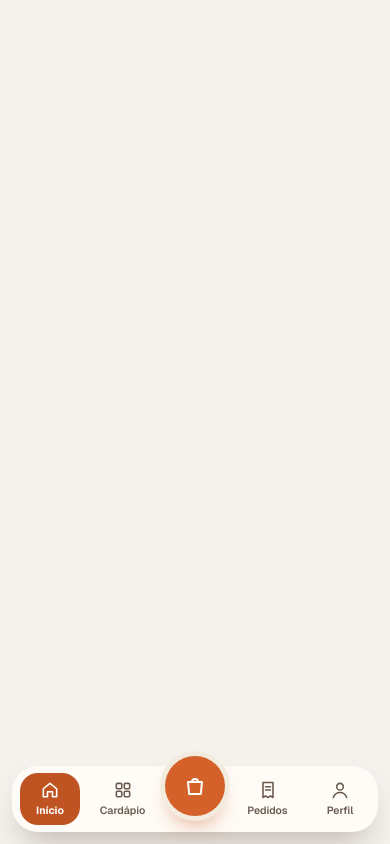
Test: o Perfil › cliente comum não vê os atalhos da equipe
Click the button "Perfil". click: x=340, y=799
box: [310,773,370,825]
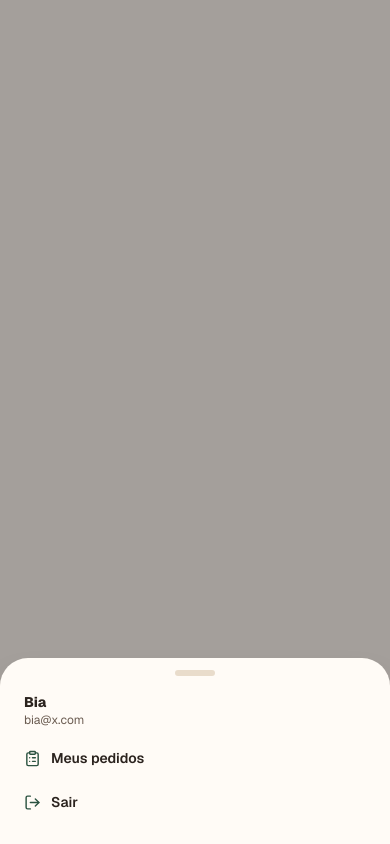
Check: the link "Meus pedidos" is shown, box [24,749,144,767]
